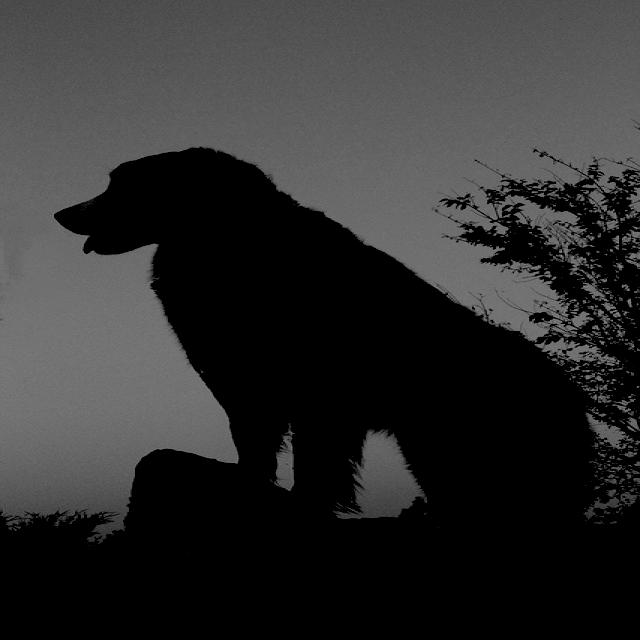Dog: (0, 112, 640, 637)
